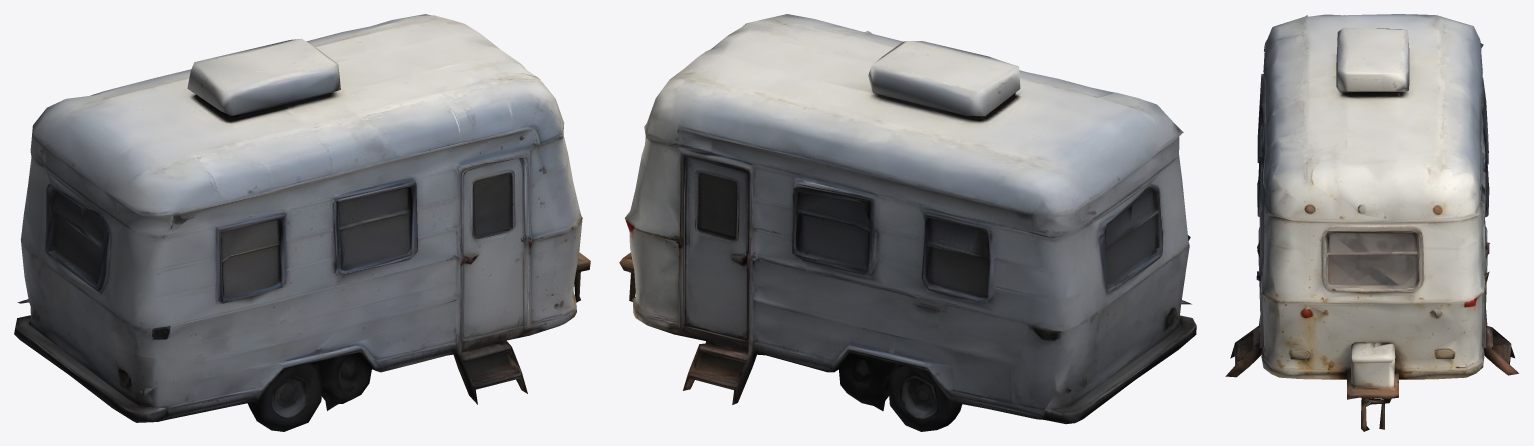
The model's file is qr_cabin2.glb.
The picture shows the model from 3 angles, left to right: view 1: azimuth 30°, elevation 25°; view 2: azimuth 150°, elevation 25°; view 3: azimuth 270°, elevation 25°; orthographic projection. The views are drawn at different scales.
Parts seen in each view (by area): view 1: tripo_node_88f8e2c1-669b-40ee-8f43-aee39c9cc8f5; view 2: tripo_node_88f8e2c1-669b-40ee-8f43-aee39c9cc8f5; view 3: tripo_node_88f8e2c1-669b-40ee-8f43-aee39c9cc8f5.
Part boxes in pixels (x1,y1,x2,y2): tripo_node_88f8e2c1-669b-40ee-8f43-aee39c9cc8f5: (14, 14, 590, 431); tripo_node_88f8e2c1-669b-40ee-8f43-aee39c9cc8f5: (619, 14, 1196, 431); tripo_node_88f8e2c1-669b-40ee-8f43-aee39c9cc8f5: (1225, 14, 1518, 431).
Size of the model in its own units: 1 by 0.5916 by 0.6055.
1 material, 1 textured.
